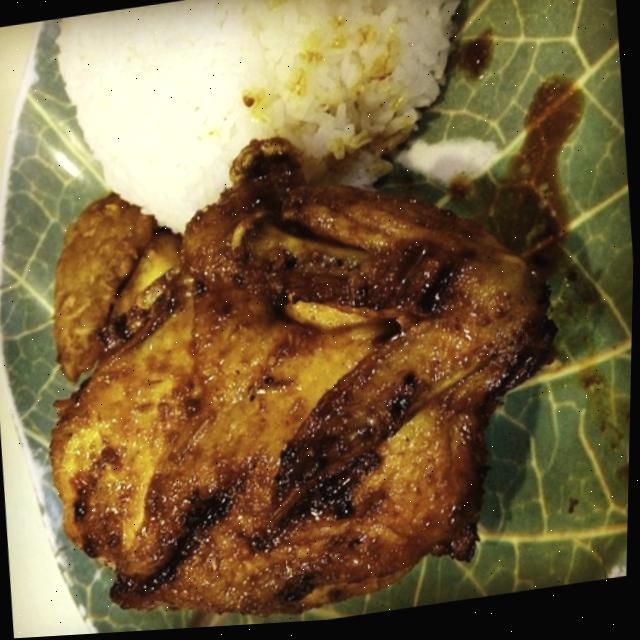鸡肉料理 含炸鸡: (4, 44, 626, 638)
